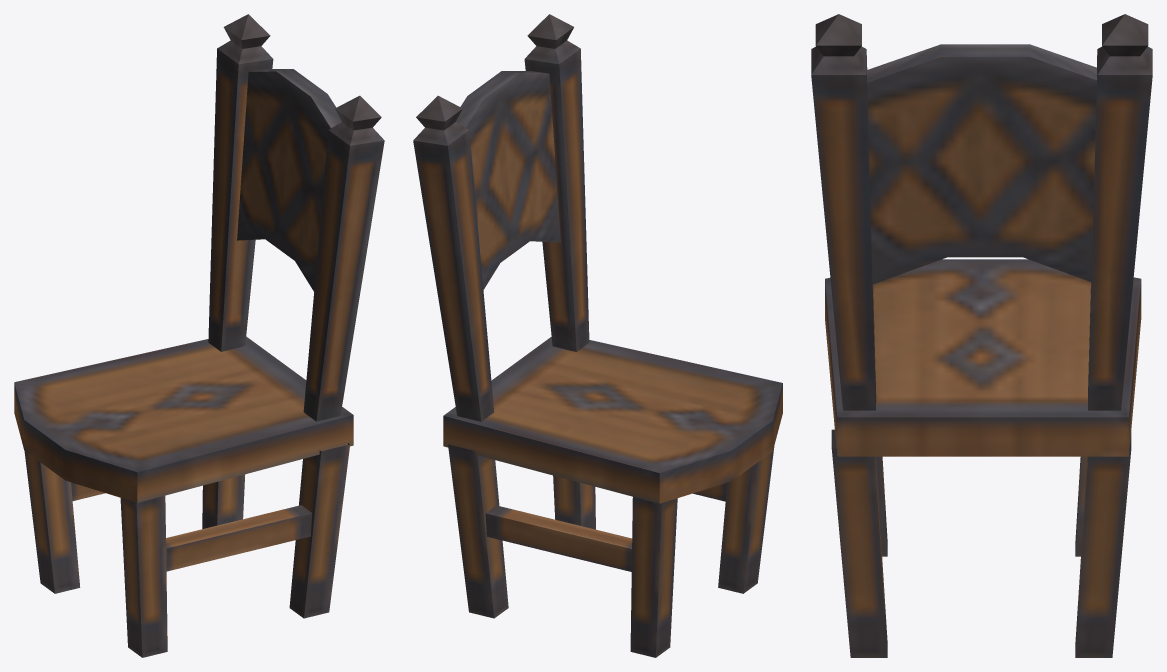
Rendered from wood_chair.FBX.
3 renders of one model, left to right at view 1: azimuth 30°, elevation 25°; view 2: azimuth 150°, elevation 25°; view 3: azimuth 270°, elevation 25°, orthographic. The views are drawn at different scales.
Parts seen in each view (by area): view 1: Object144; view 2: Object144; view 3: Object144.
Boxes of the visible parts, x1=… form: Object144: x1=14, y1=14, x2=384, y2=657; Object144: x1=413, y1=14, x2=782, y2=657; Object144: x1=811, y1=14, x2=1152, y2=657.
Size of the model in its own units: 0.5556 by 0.9992 by 0.4685.
